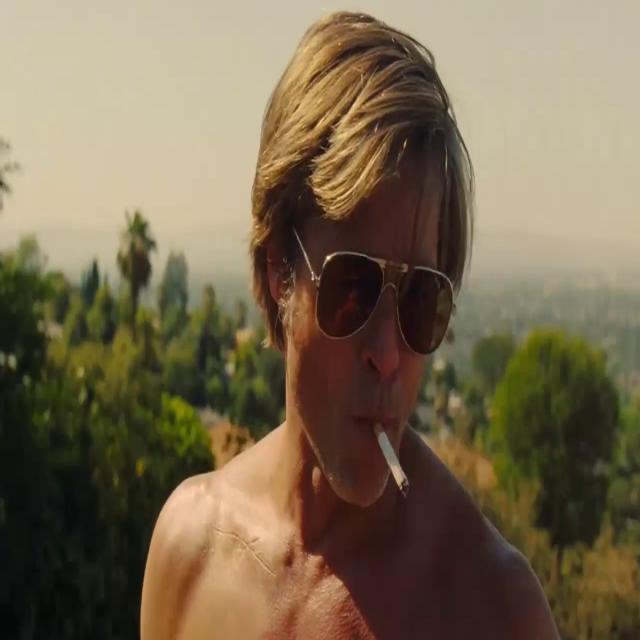Smooking: (371, 409, 416, 509)
